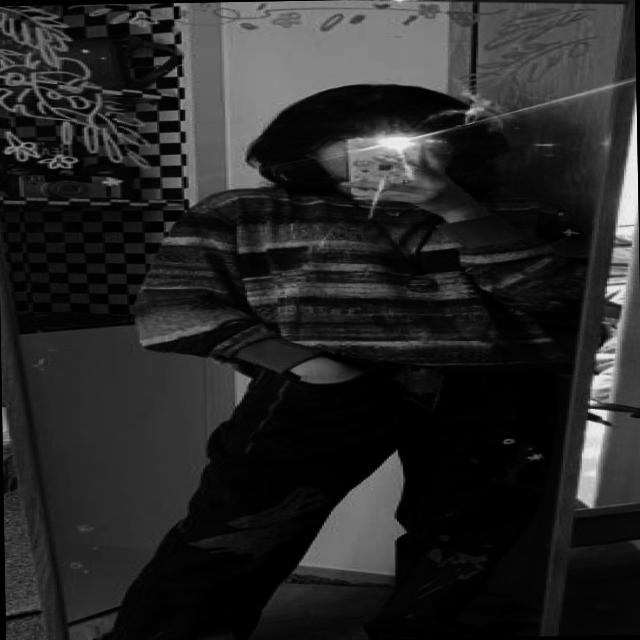denimpants: (70, 355, 558, 640)
sweater: (140, 177, 574, 378)
